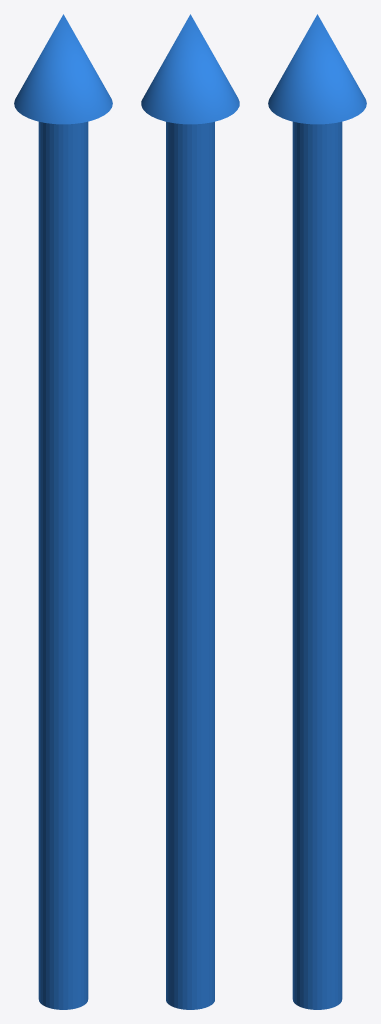
Rendered from BlueZArrow.glb.
3 views of the same model, side by side, from view 1: azimuth 90°, elevation 25°; view 2: azimuth 150°, elevation 25°; view 3: azimuth 270°, elevation 25° (orthographic).
Visible parts, largest first — view 1: Cylinder, Cone; view 2: Cylinder, Cone; view 3: Cylinder, Cone.
Boxes of the visible parts, bbox=[...] form: Cylinder: bbox=[38, 121, 88, 1009]; Cone: bbox=[14, 14, 112, 124]; Cylinder: bbox=[166, 121, 214, 1009]; Cone: bbox=[141, 14, 239, 124]; Cylinder: bbox=[292, 121, 342, 1009]; Cone: bbox=[268, 14, 366, 124].
Bounding box in the file's own units: 0.2 × 2.2 × 0.2.
